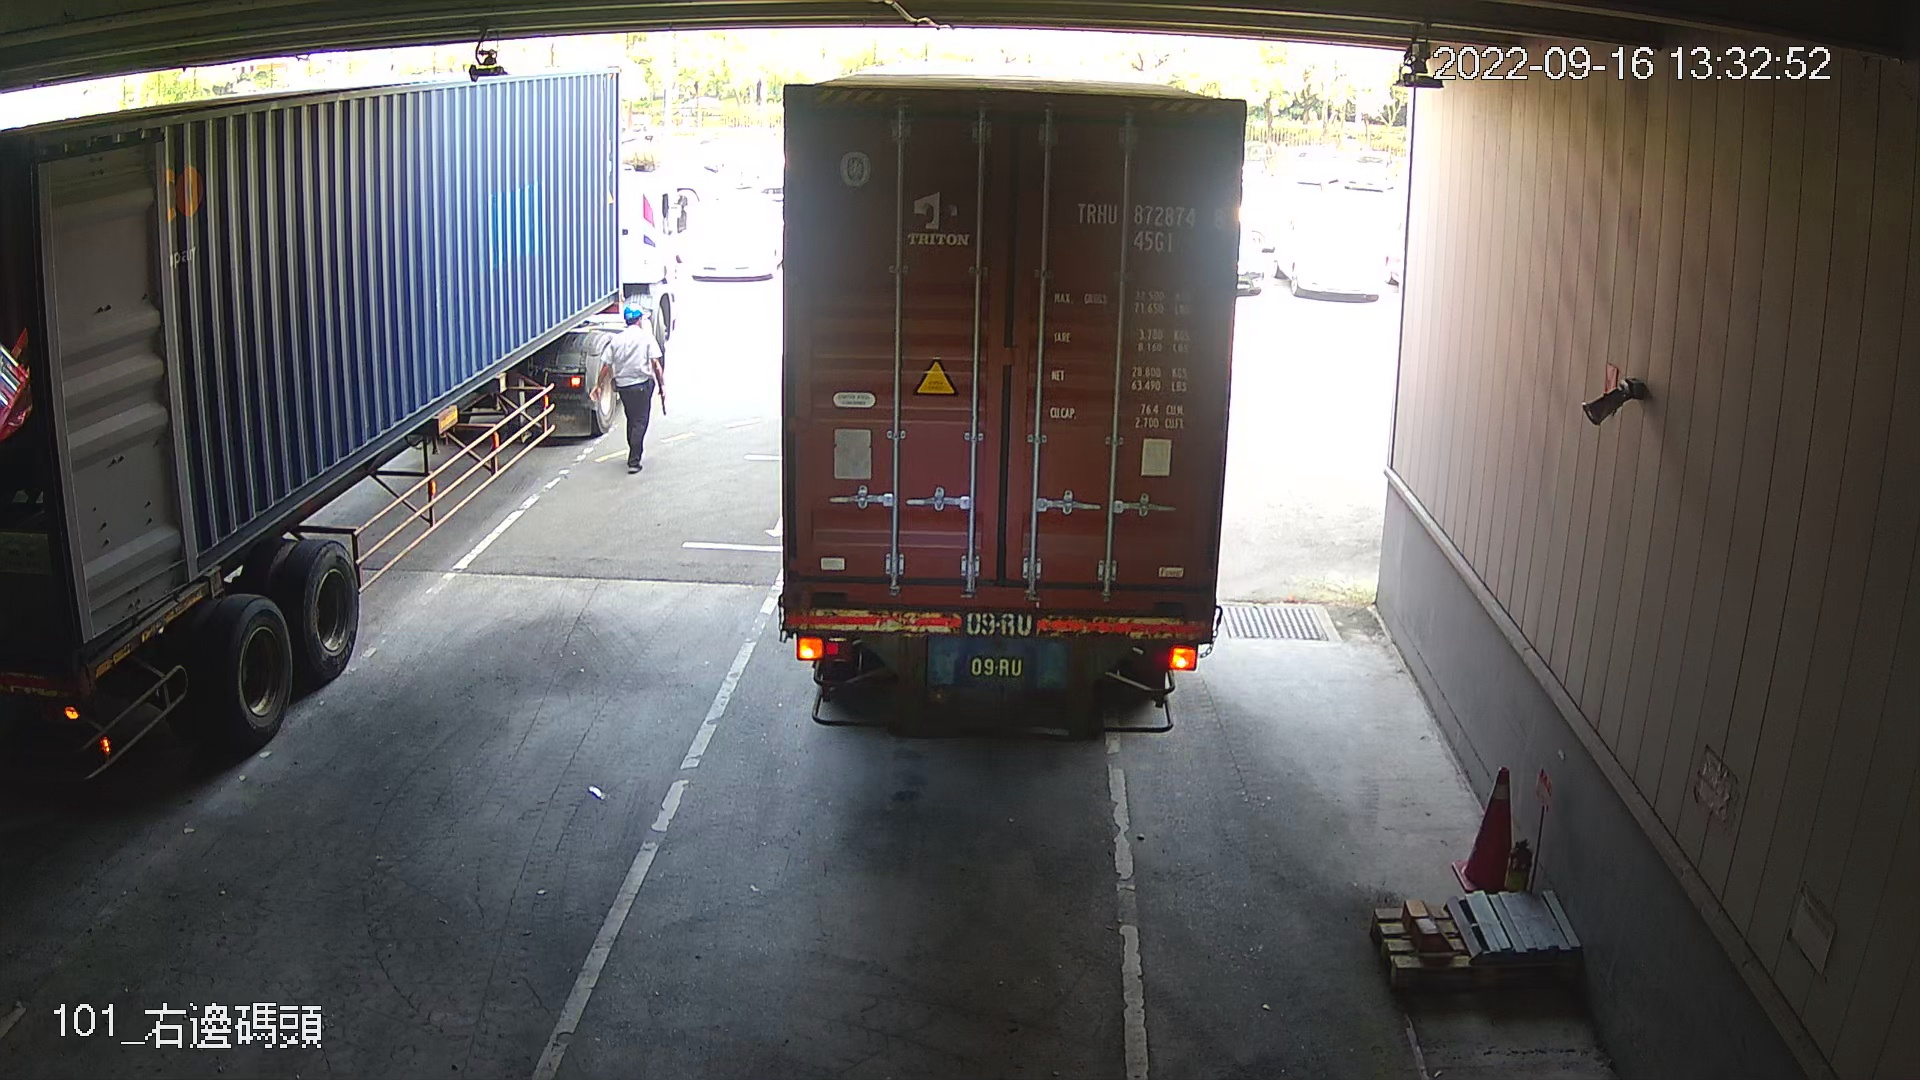container: (1064, 190, 1232, 262)
